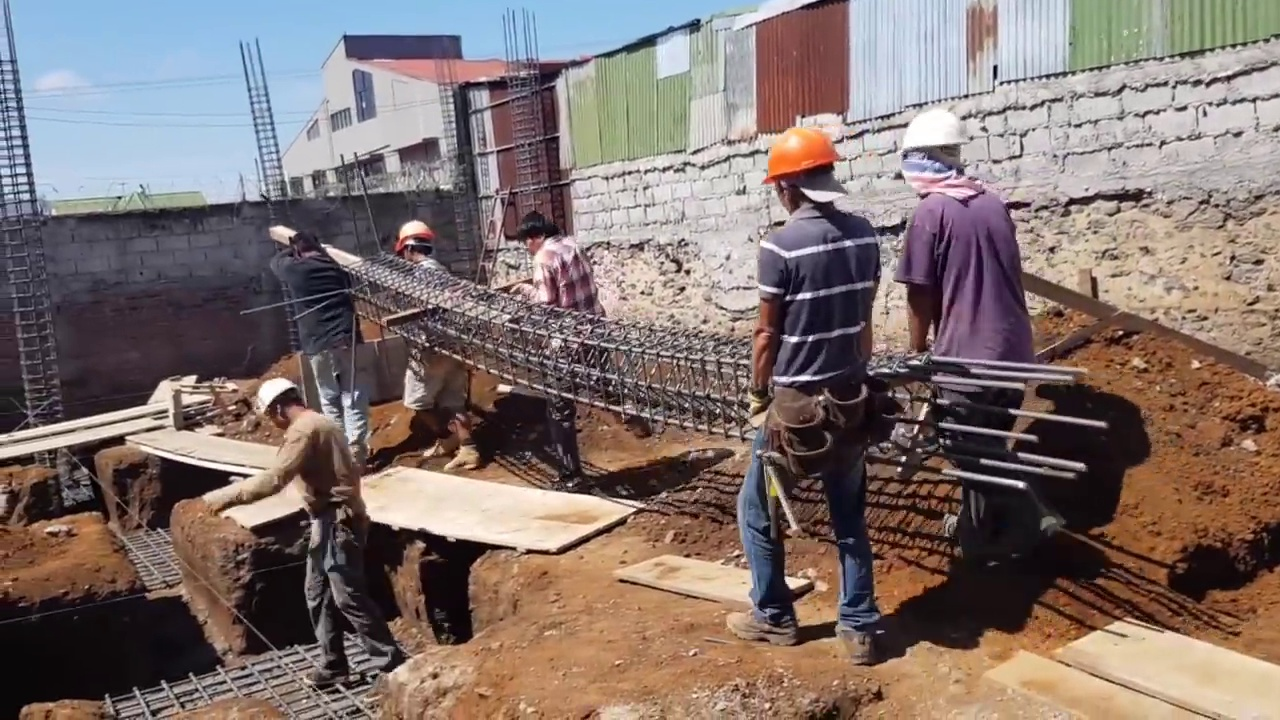helmet: (759, 127, 841, 190), (901, 104, 972, 157), (251, 379, 298, 415), (390, 219, 432, 248)
helmet-off: (509, 212, 556, 257), (288, 228, 316, 258)
helmet-on: (761, 122, 841, 218), (902, 104, 970, 199), (250, 380, 307, 432), (389, 221, 436, 265)
person: (900, 101, 1083, 607), (733, 127, 889, 665), (188, 380, 372, 701), (498, 202, 609, 490), (385, 221, 478, 458), (277, 236, 366, 428)
